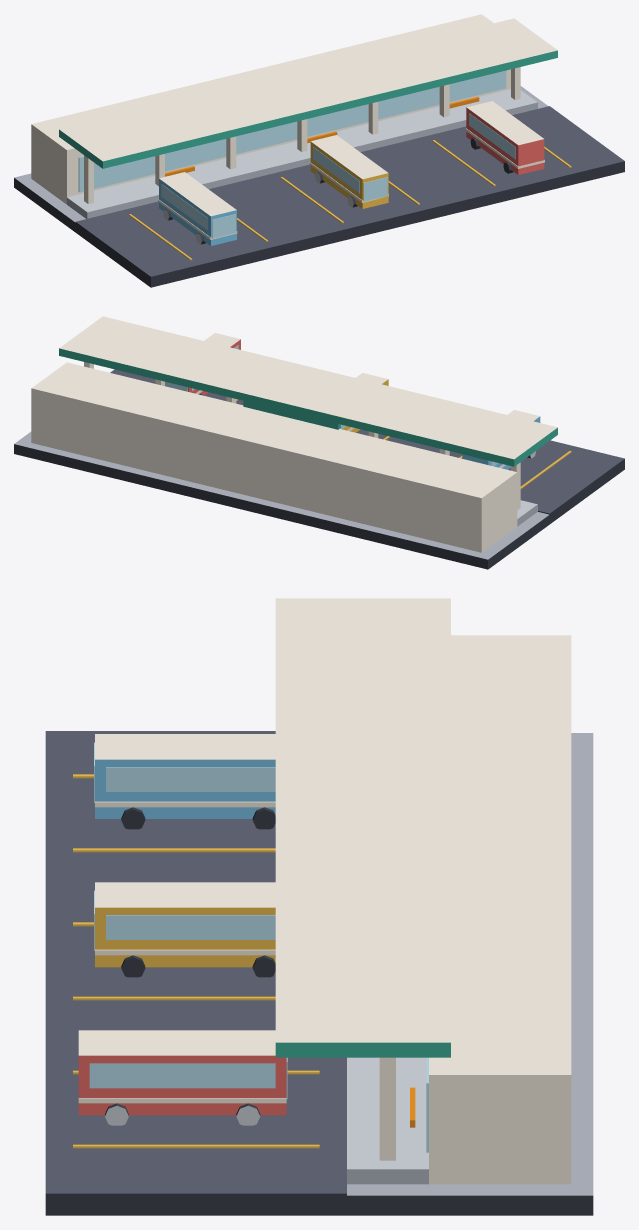
Rendered from public_bus_terminal.glb.
3 renders of one model, top to bottom at view 1: azimuth 30°, elevation 25°; view 2: azimuth 150°, elevation 25°; view 3: azimuth 270°, elevation 25°, orthographic. The views are drawn at different scales.
Visible parts, largest first — view 1: public_bus_terminal; view 2: public_bus_terminal; view 3: public_bus_terminal.
Part boxes in pixels (x1,y1,x2,y2): public_bus_terminal: (14,14,624,287); public_bus_terminal: (14,316,624,569); public_bus_terminal: (45,598,593,1215).
Bounding box in the file's own units: 2 × 0.33 × 1.
